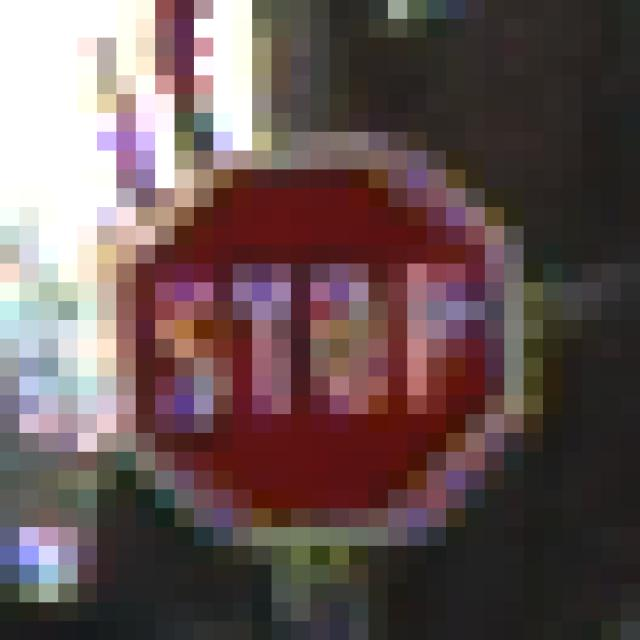STOP: (98, 114, 544, 547)
